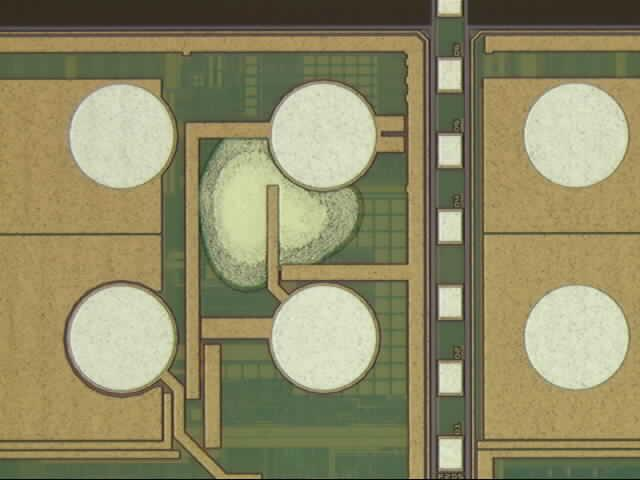BLOCK ETCH: (201, 139, 367, 294)
